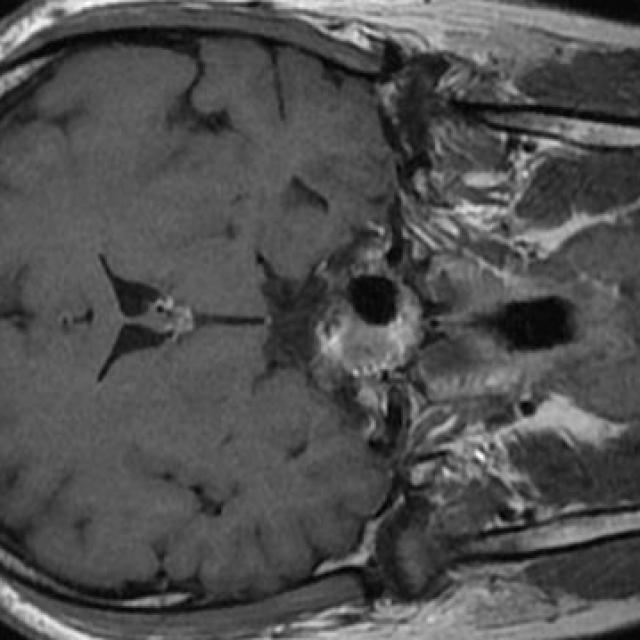pituitary: (316, 250, 424, 378)
